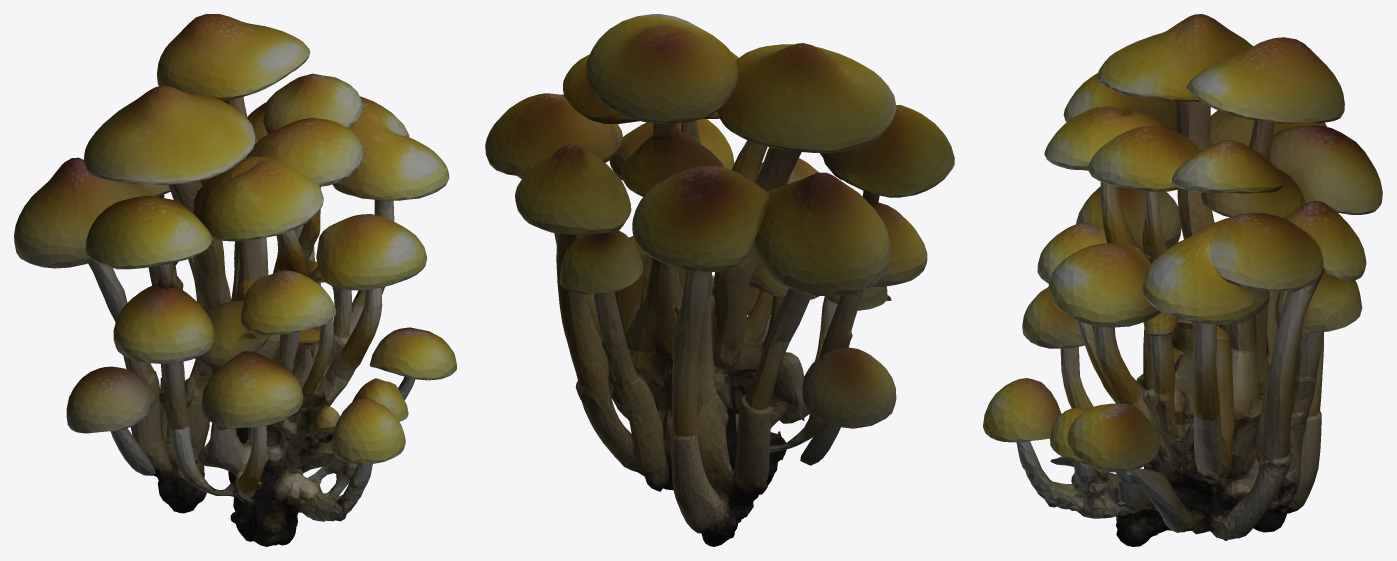
The picture shows the model from 3 angles, left to right: view 1: azimuth 30°, elevation 25°; view 2: azimuth 150°, elevation 25°; view 3: azimuth 270°, elevation 25°; orthographic projection. The views are drawn at different scales.
Parts seen in each view (by area): view 1: world; view 2: world; view 3: world.
Part boxes in pixels (bbox=[...]): world: bbox=[14, 14, 456, 546]; world: bbox=[485, 14, 954, 546]; world: bbox=[983, 14, 1382, 546].
Bounding box in the file's own units: 0.8486 × 0.9998 × 0.7135.
1 material, 1 textured.
